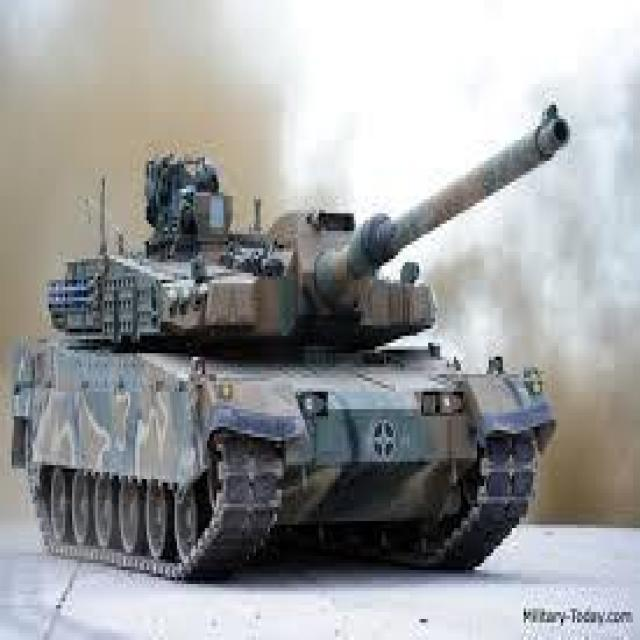MIL_MBT: (10, 107, 571, 579)
